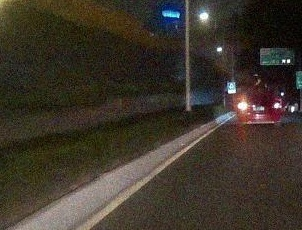L_light: (238, 103, 247, 110)
R_light: (272, 102, 282, 108)
T_light: (256, 91, 262, 94)
night-left: (237, 88, 282, 129)
